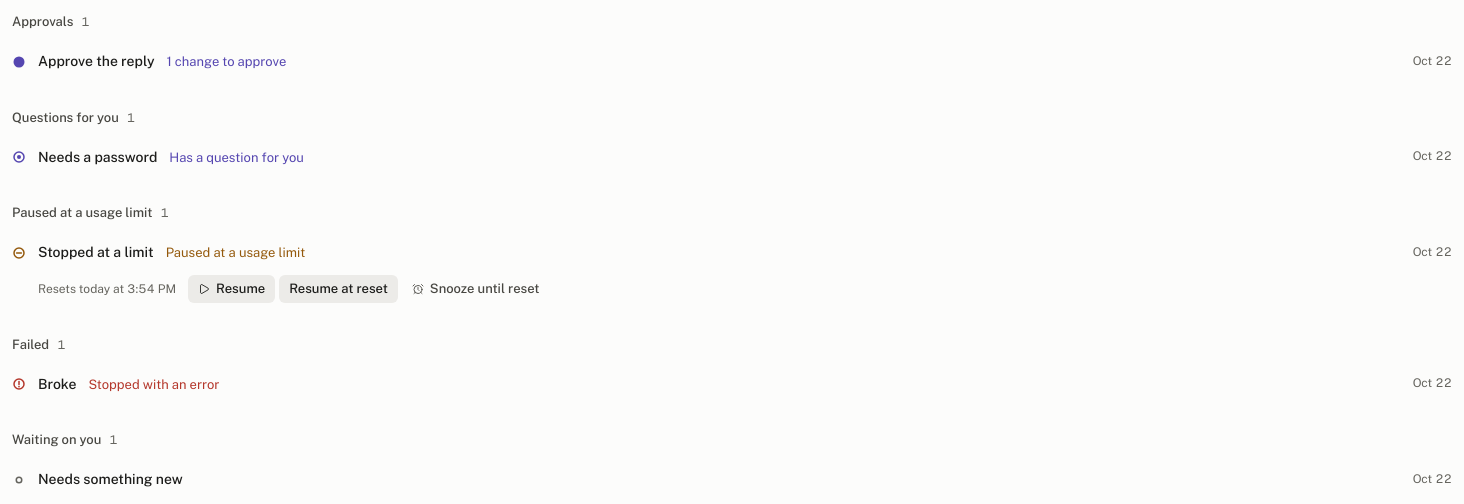
Test case: Needs you groups › puts the Limited recovery actions beside the row, outside its link
Expected: the button "Resume at reset" is shown, [279,274,398,302]
Expected: the button "Snooze until reset" is shown, [402,274,550,302]
Click the button "Resume" at [232, 288], box [188,274,275,302]
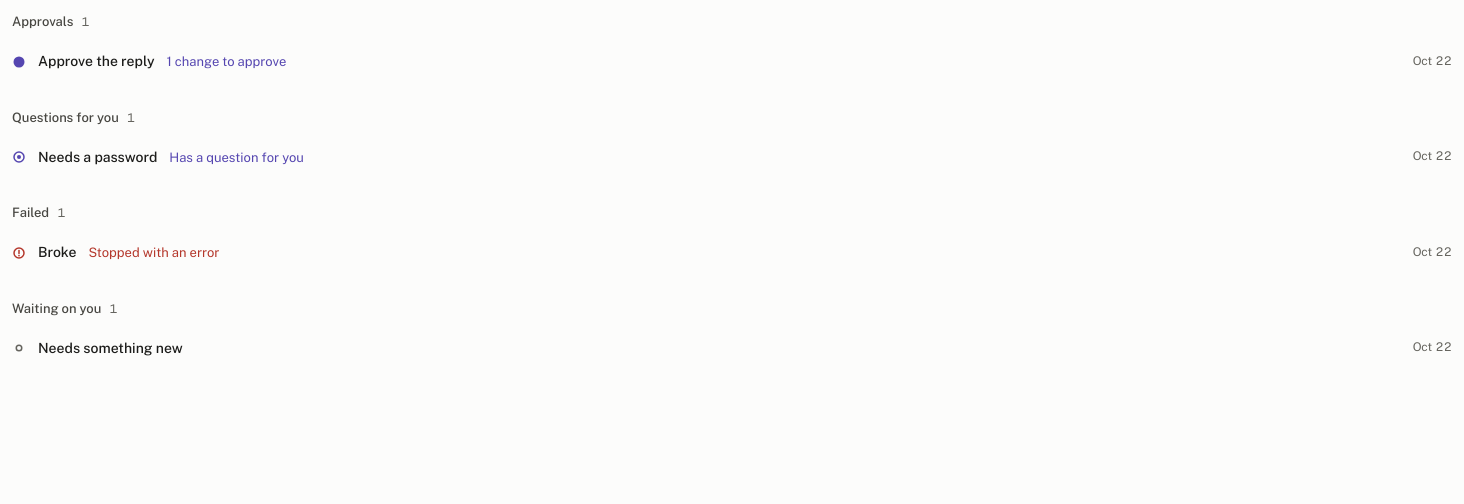
Result: the heading "Paused at a usage limit" is gone
